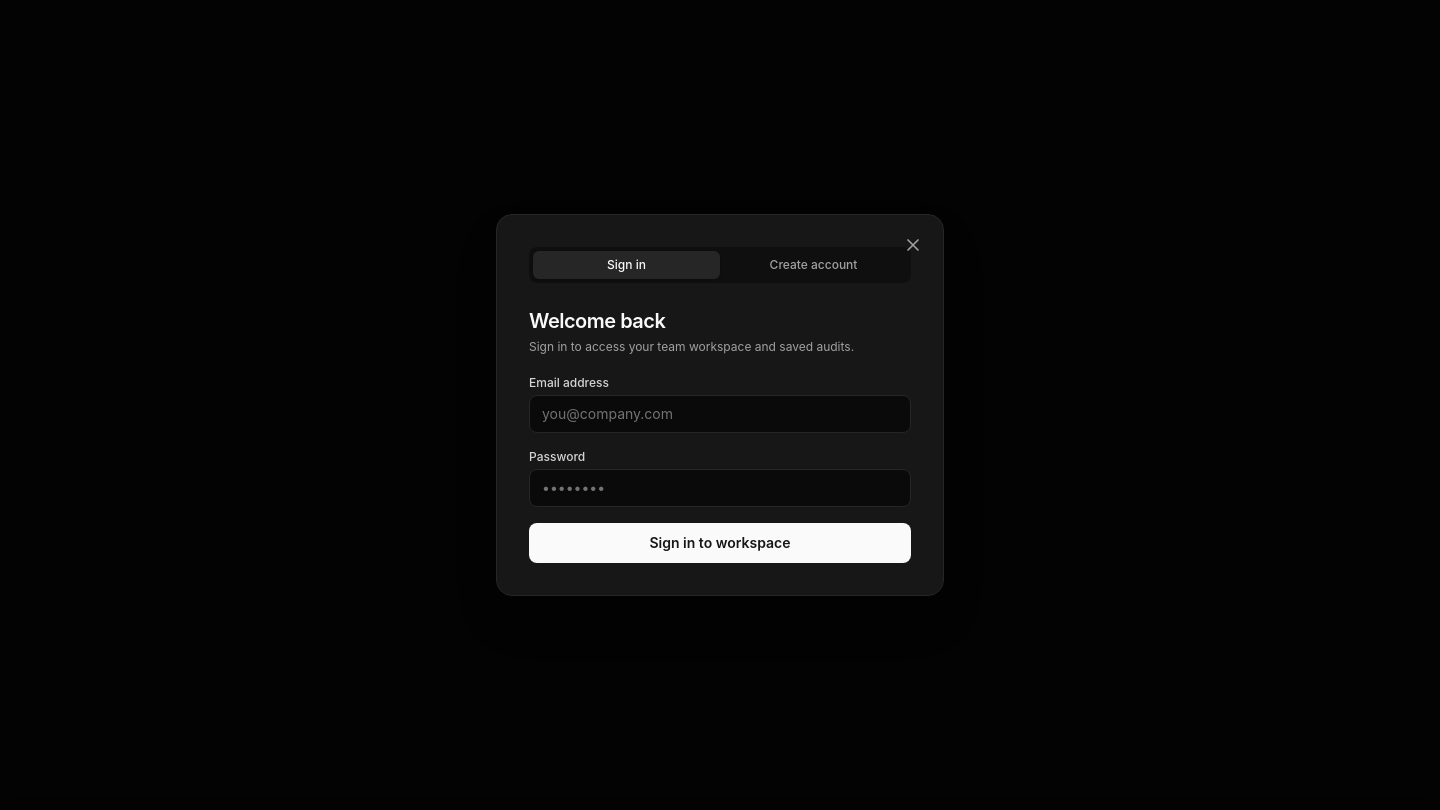
Test: AuthModal Component › switches to create account tab and shows Full name field
Expected: the field labelled "Full name" is not shown
Click the tab "Create account": (814, 265) [720, 251, 907, 279]
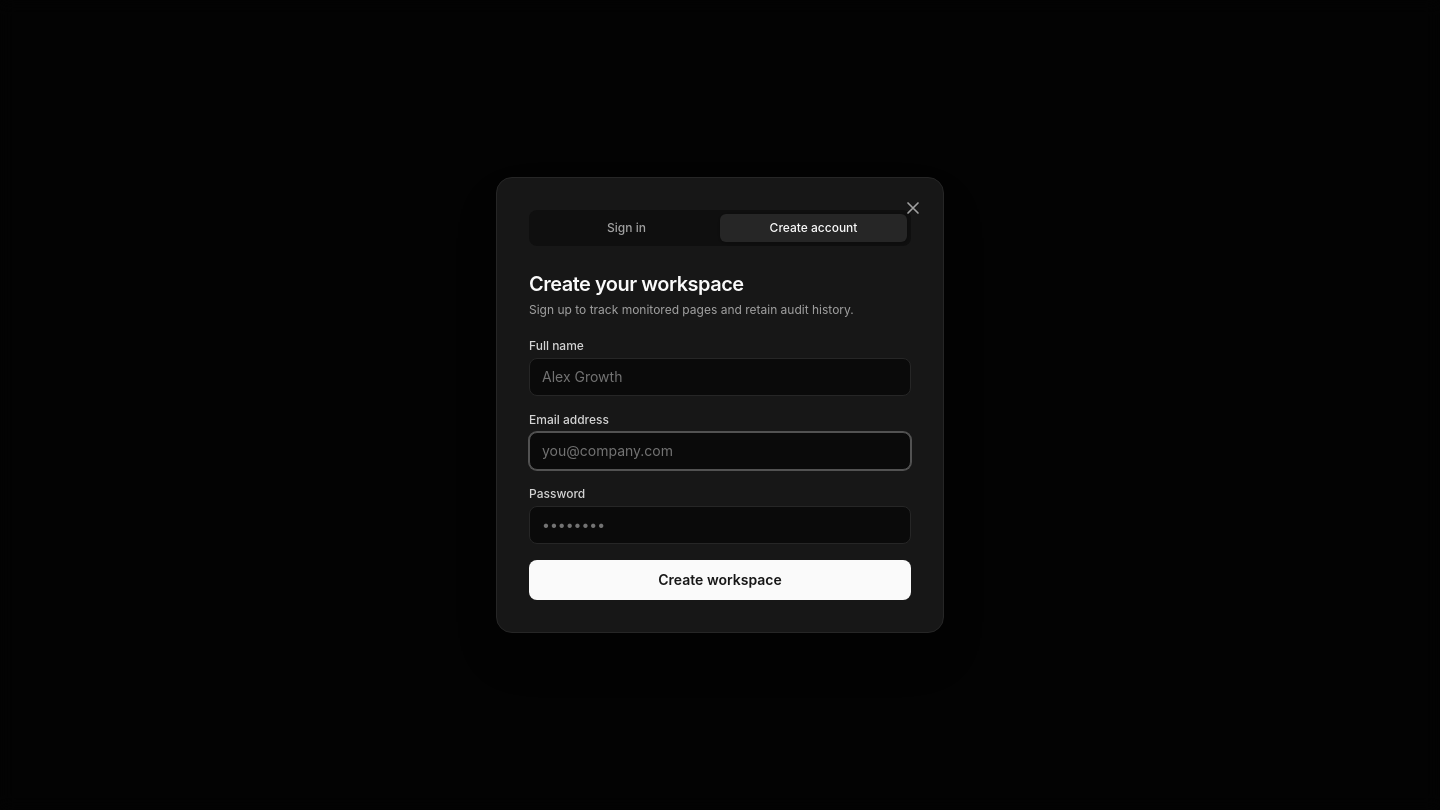
Expected: the heading "Create your workspace" is shown, [529, 272, 744, 296]
Expected: the field labelled "Full name" is shown, [529, 358, 911, 396]
